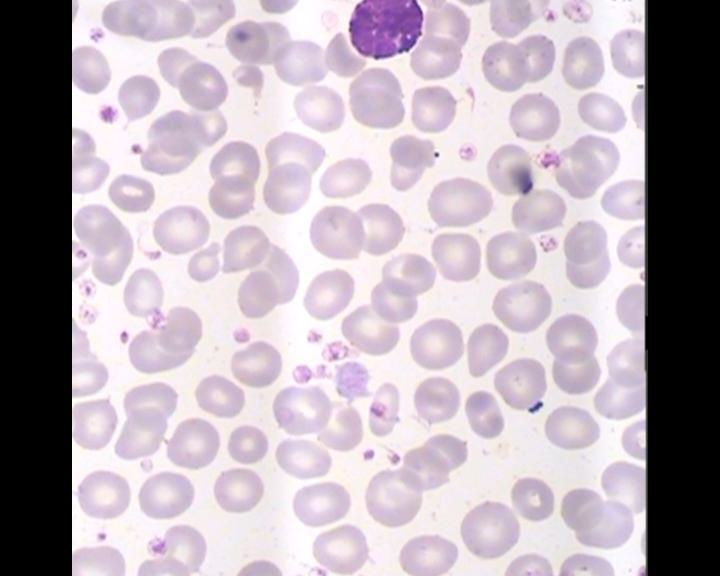baso: (346, 0, 429, 66)
